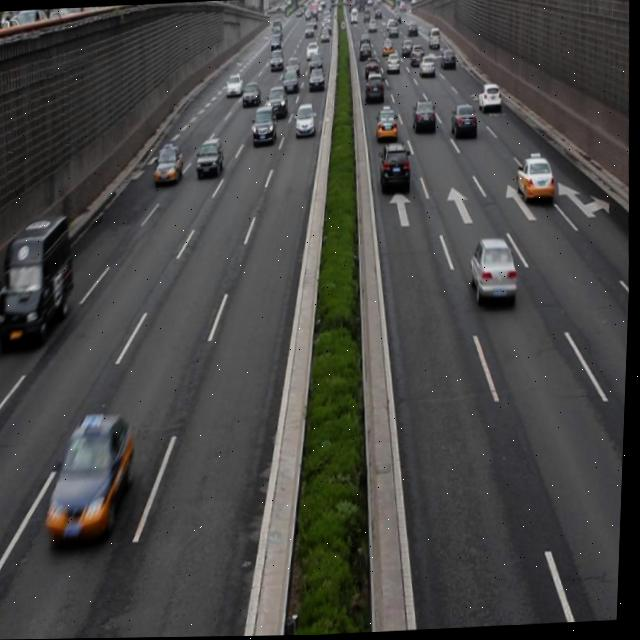car: (43, 411, 140, 542), (468, 236, 519, 303), (515, 153, 555, 204), (378, 140, 411, 195), (154, 144, 185, 186), (194, 137, 225, 177), (450, 102, 478, 142), (252, 106, 278, 145), (411, 98, 437, 136), (374, 105, 399, 141), (476, 80, 502, 114), (293, 103, 316, 140), (265, 86, 289, 120)
truck: (0, 213, 79, 347)
